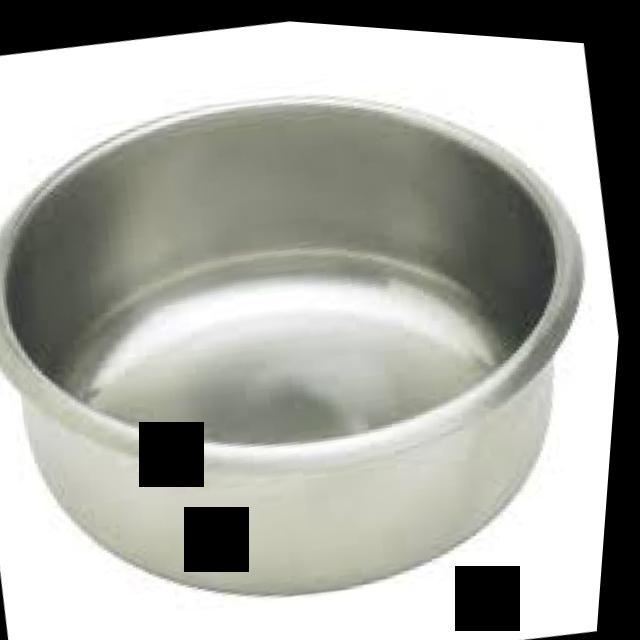Sponge Bowl: (0, 8, 639, 640)
